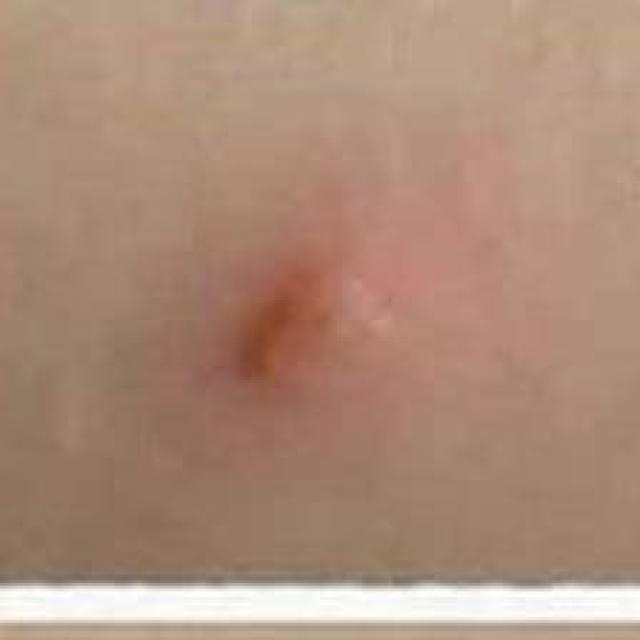others: (3, 0, 640, 567)
